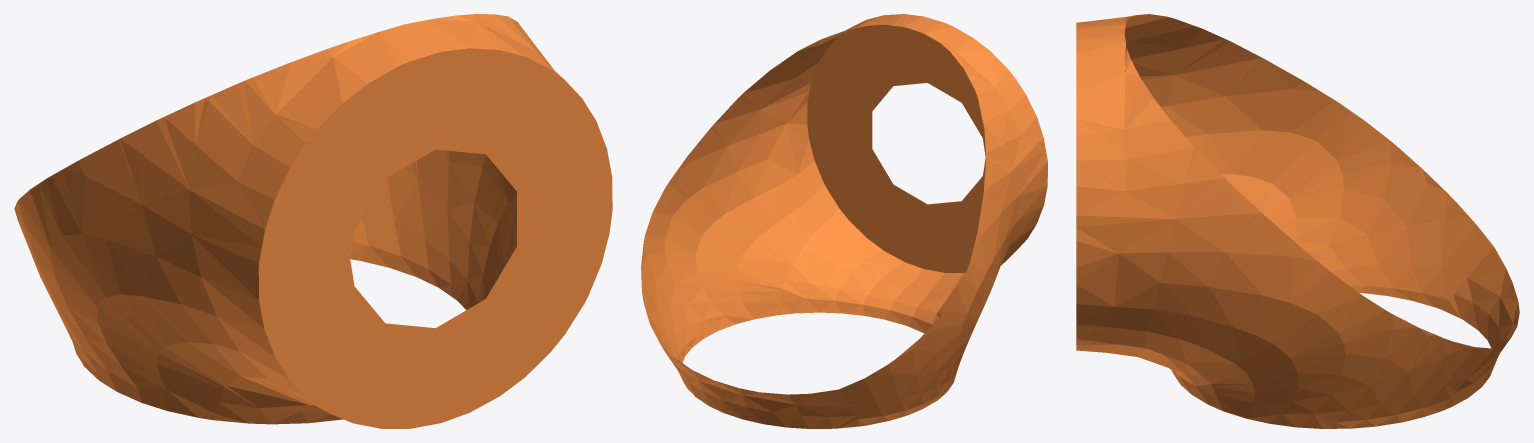
File: iiwa_link_7_vis_1.obj
3 renders of one model, left to right at view 1: azimuth 30°, elevation 25°; view 2: azimuth 150°, elevation 25°; view 3: azimuth 270°, elevation 25°, orthographic. The views are drawn at different scales.
Parts seen in each view (by area): view 1: node; view 2: node; view 3: node.
Boxes of the visible parts, <box> form: node: <box>14,14,612,428</box>; node: <box>641,14,1047,428</box>; node: <box>1076,14,1519,428</box>.
Bounding box in the file's own units: 0.1321 × 0.1145 × 0.1404.
